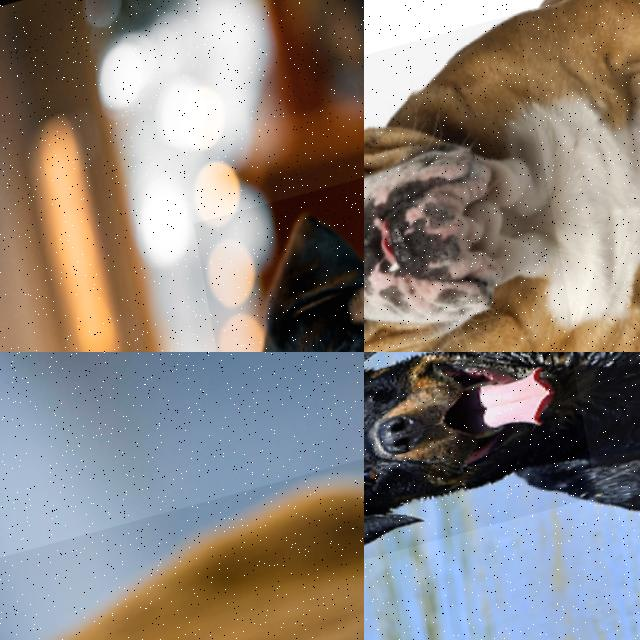beagle: (0, 423, 364, 640)
bulldog: (364, 12, 603, 352)
rottweiler: (364, 352, 610, 590), (180, 151, 364, 352)
